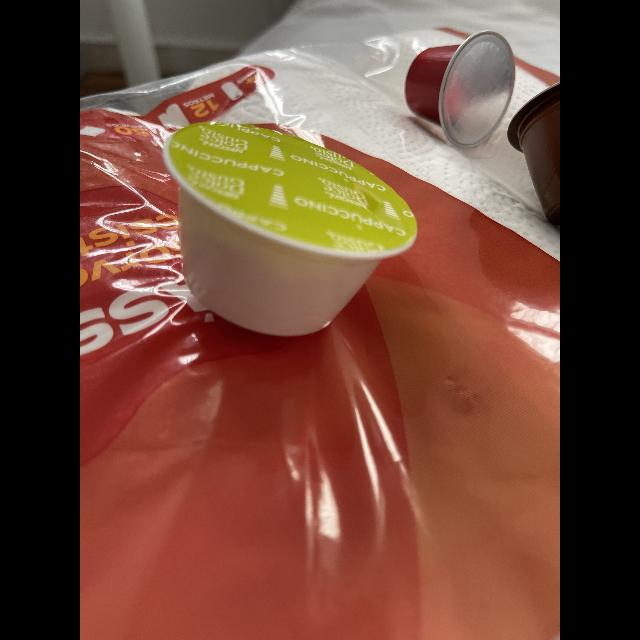intact_capsule: (157, 108, 420, 356)
